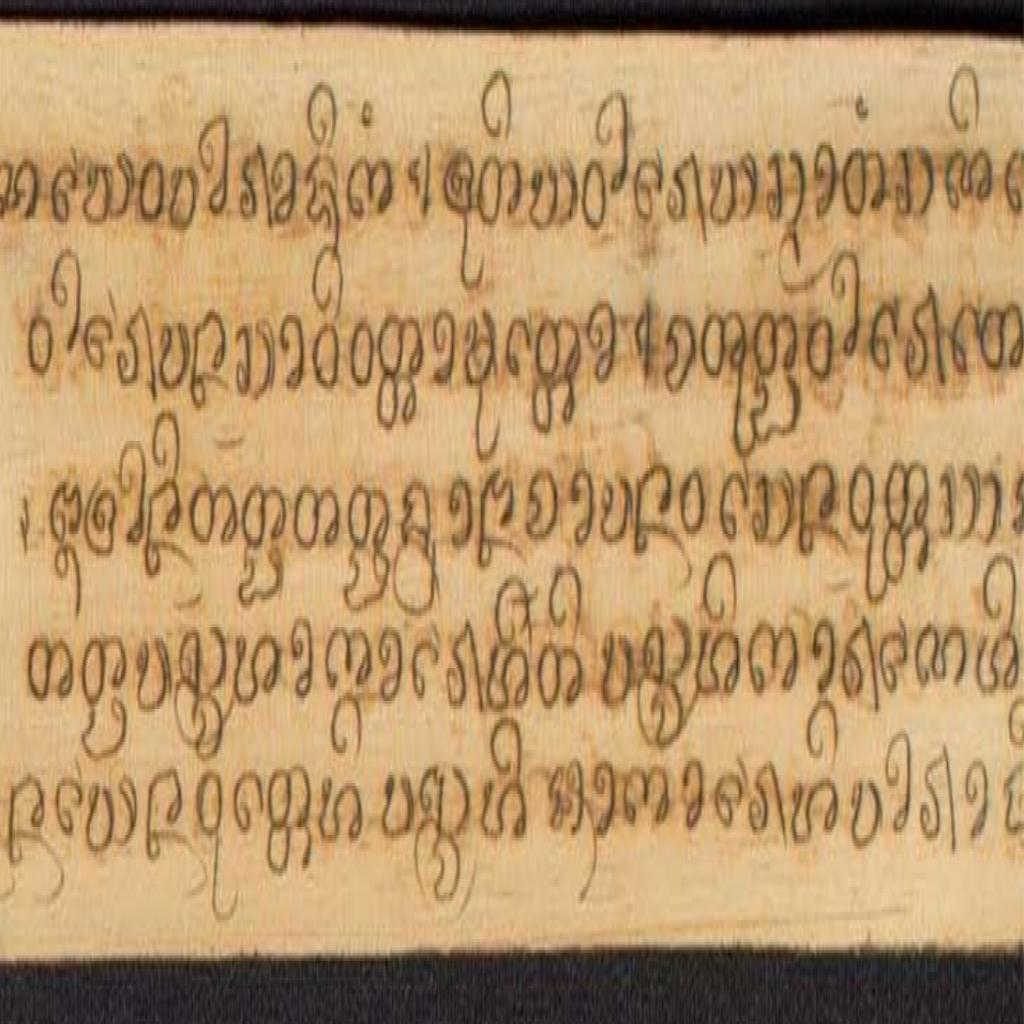LN008: (304, 146, 343, 239)
LN017: (913, 617, 971, 696)
